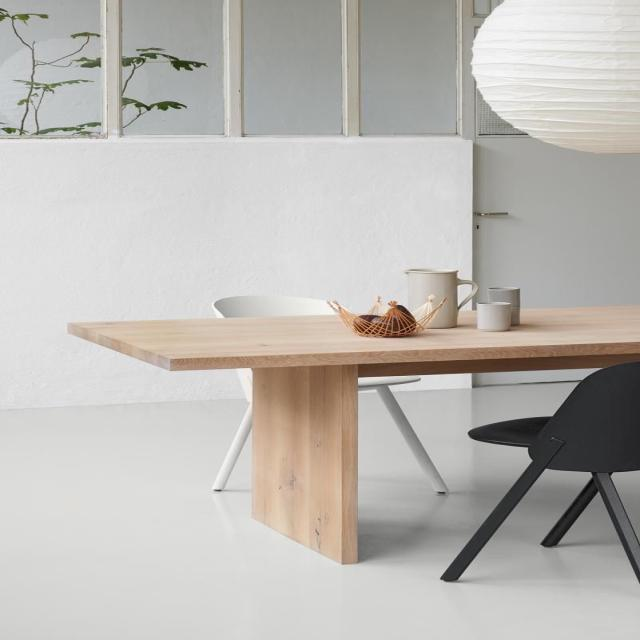table: (56, 282, 640, 584)
